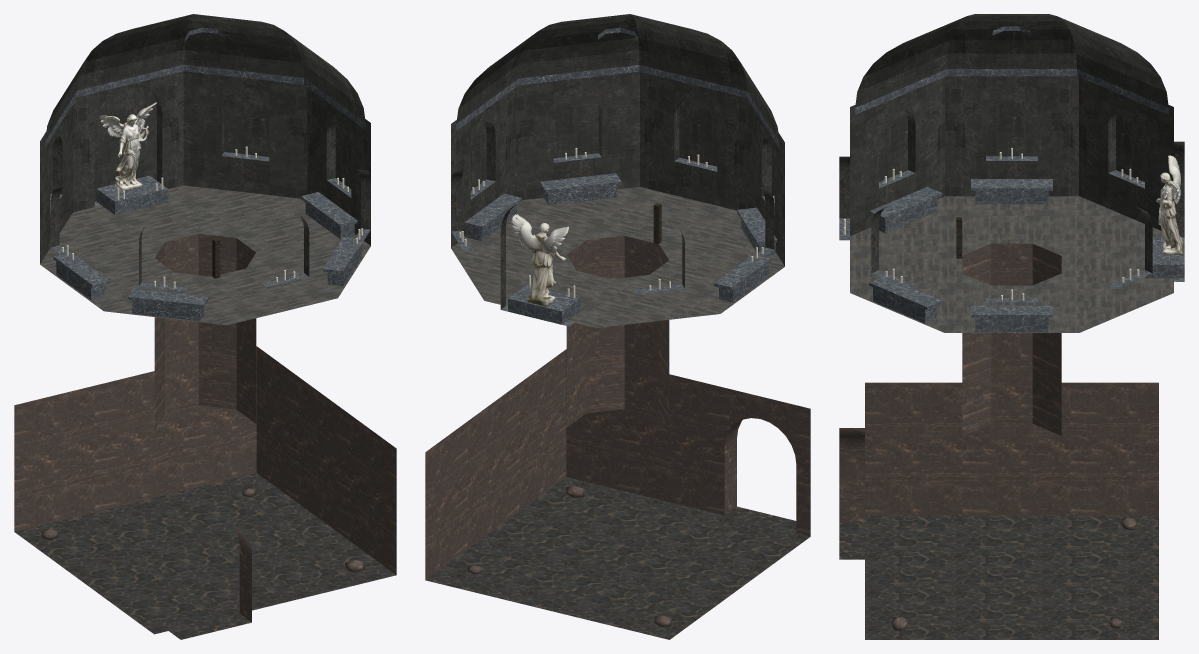
Rendered from angel-well.cf027cbd.gltf.
3 views of the same model, side by side, from view 1: azimuth 30°, elevation 25°; view 2: azimuth 150°, elevation 25°; view 3: azimuth 270°, elevation 25° (orthographic). The views are drawn at different scales.
Visible parts, largest first — view 1: angel-well-mesh, angel-well-angel; view 2: angel-well-mesh, angel-well-angel; view 3: angel-well-mesh, angel-well-angel.
Part boxes in pixels (left/top/right/bottom): angel-well-mesh: left=14, top=14, right=396, bottom=639; angel-well-angel: left=100, top=102, right=156, bottom=191; angel-well-mesh: left=425, top=14, right=810, bottom=639; angel-well-angel: left=511, top=214, right=568, bottom=306; angel-well-mesh: left=839, top=14, right=1184, bottom=639; angel-well-angel: left=1156, top=155, right=1183, bottom=255.
Size of the model in its own units: 8 by 13.96 by 8.
8 materials, 7 textured.
